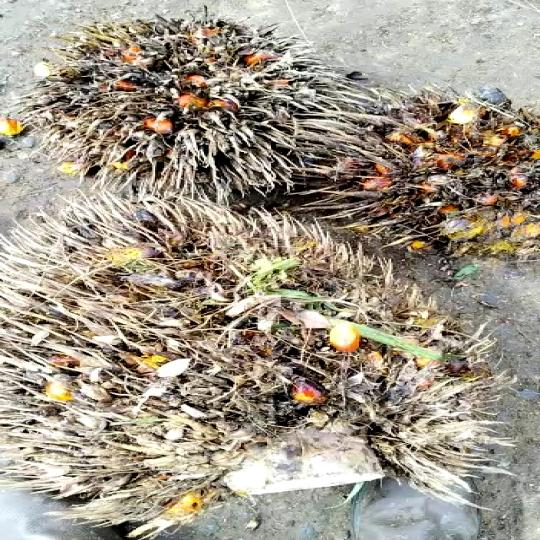terlalu masak: (0, 207, 499, 508), (38, 16, 364, 200), (300, 91, 540, 258)
